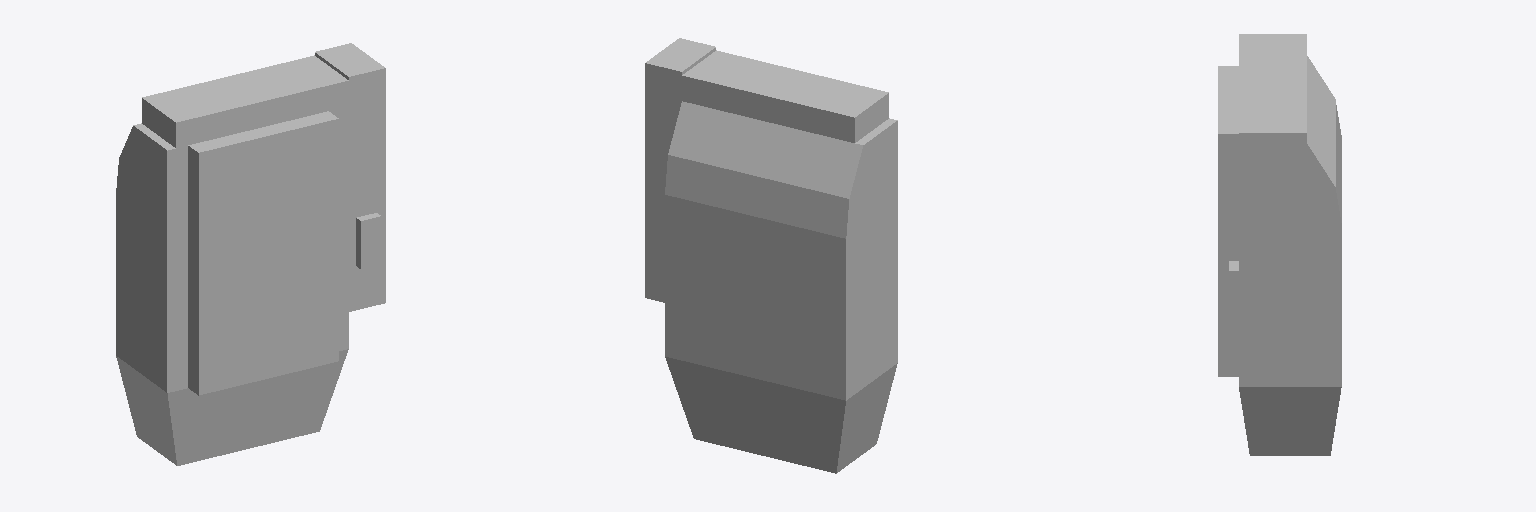
File: vending_machine.obj
The picture shows the model from 3 angles: view 1: azimuth 30°, elevation 25°; view 2: azimuth 150°, elevation 25°; view 3: azimuth 270°, elevation 25°; orthographic projection.
Bounding box in the file's own units: 160 × 247 × 78.41.